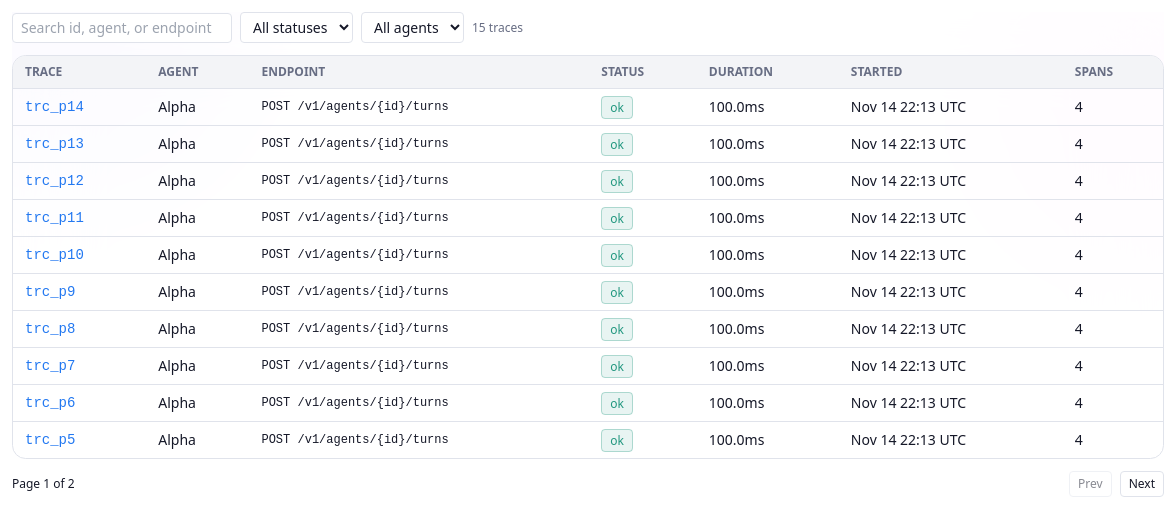
TraceList › paginates and disables prev on first page
Expected: the text with test id "trace-page-indicator" reads "Page 1 of 2", top-left (12, 476), bottom-right (75, 492)
Expected: the button with test id "trace-prev" is disabled, top-left (1069, 471), bottom-right (1112, 497)
Click the button with test id "trace-next".
click(1142, 484)  # box top-left (1120, 471), bottom-right (1164, 497)
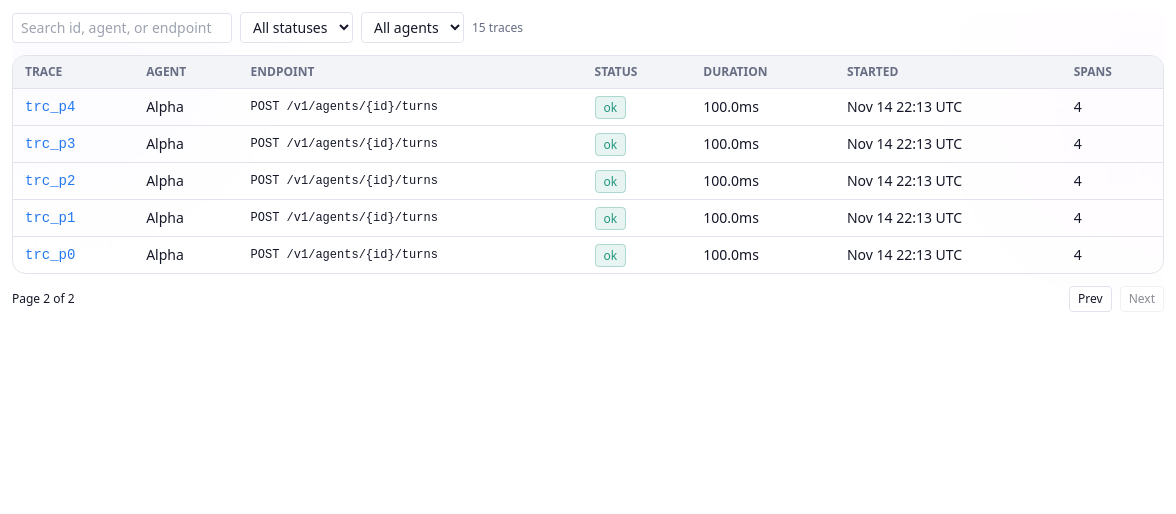
Expected: the text with test id "trace-page-indicator" reads "Page 2 of 2", top-left (12, 291), bottom-right (75, 307)
Expected: the button with test id "trace-next" is disabled, top-left (1120, 286), bottom-right (1164, 312)
